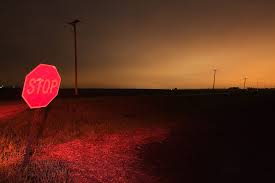stop_sign: (20, 64, 62, 110)
